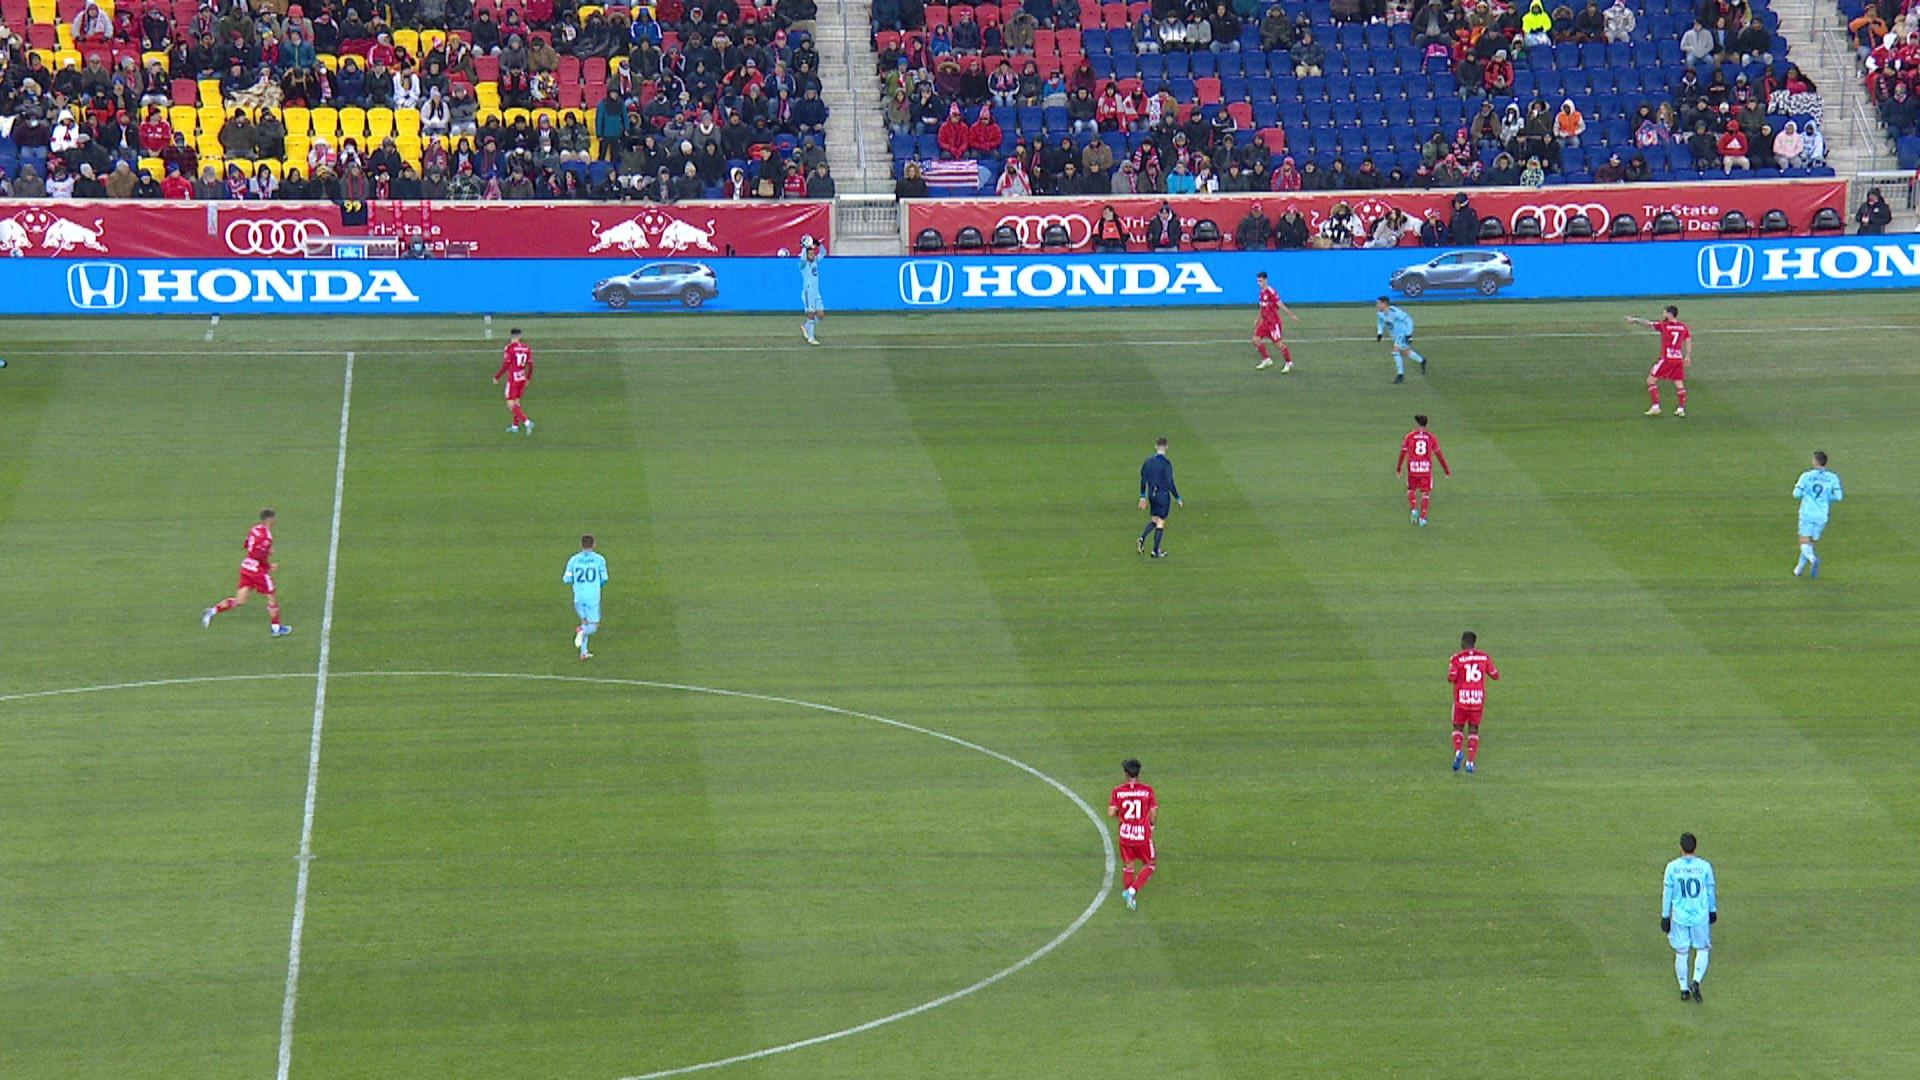football: (802, 233, 814, 247)
